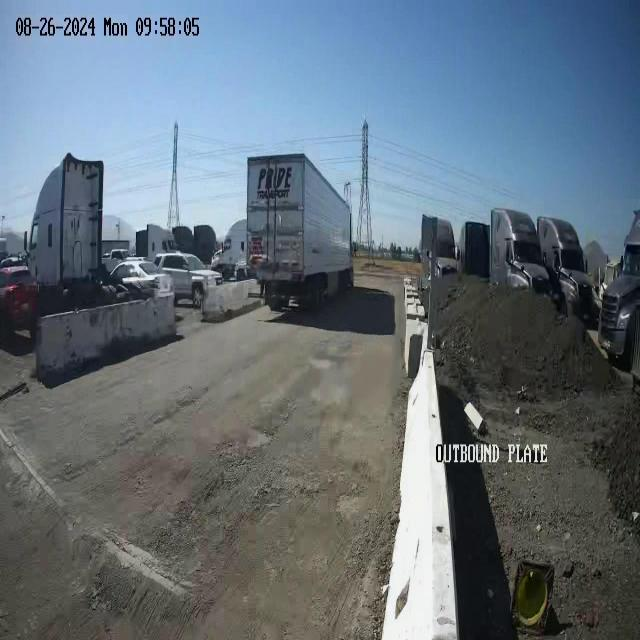CONTAINER: (245, 152, 352, 284)
